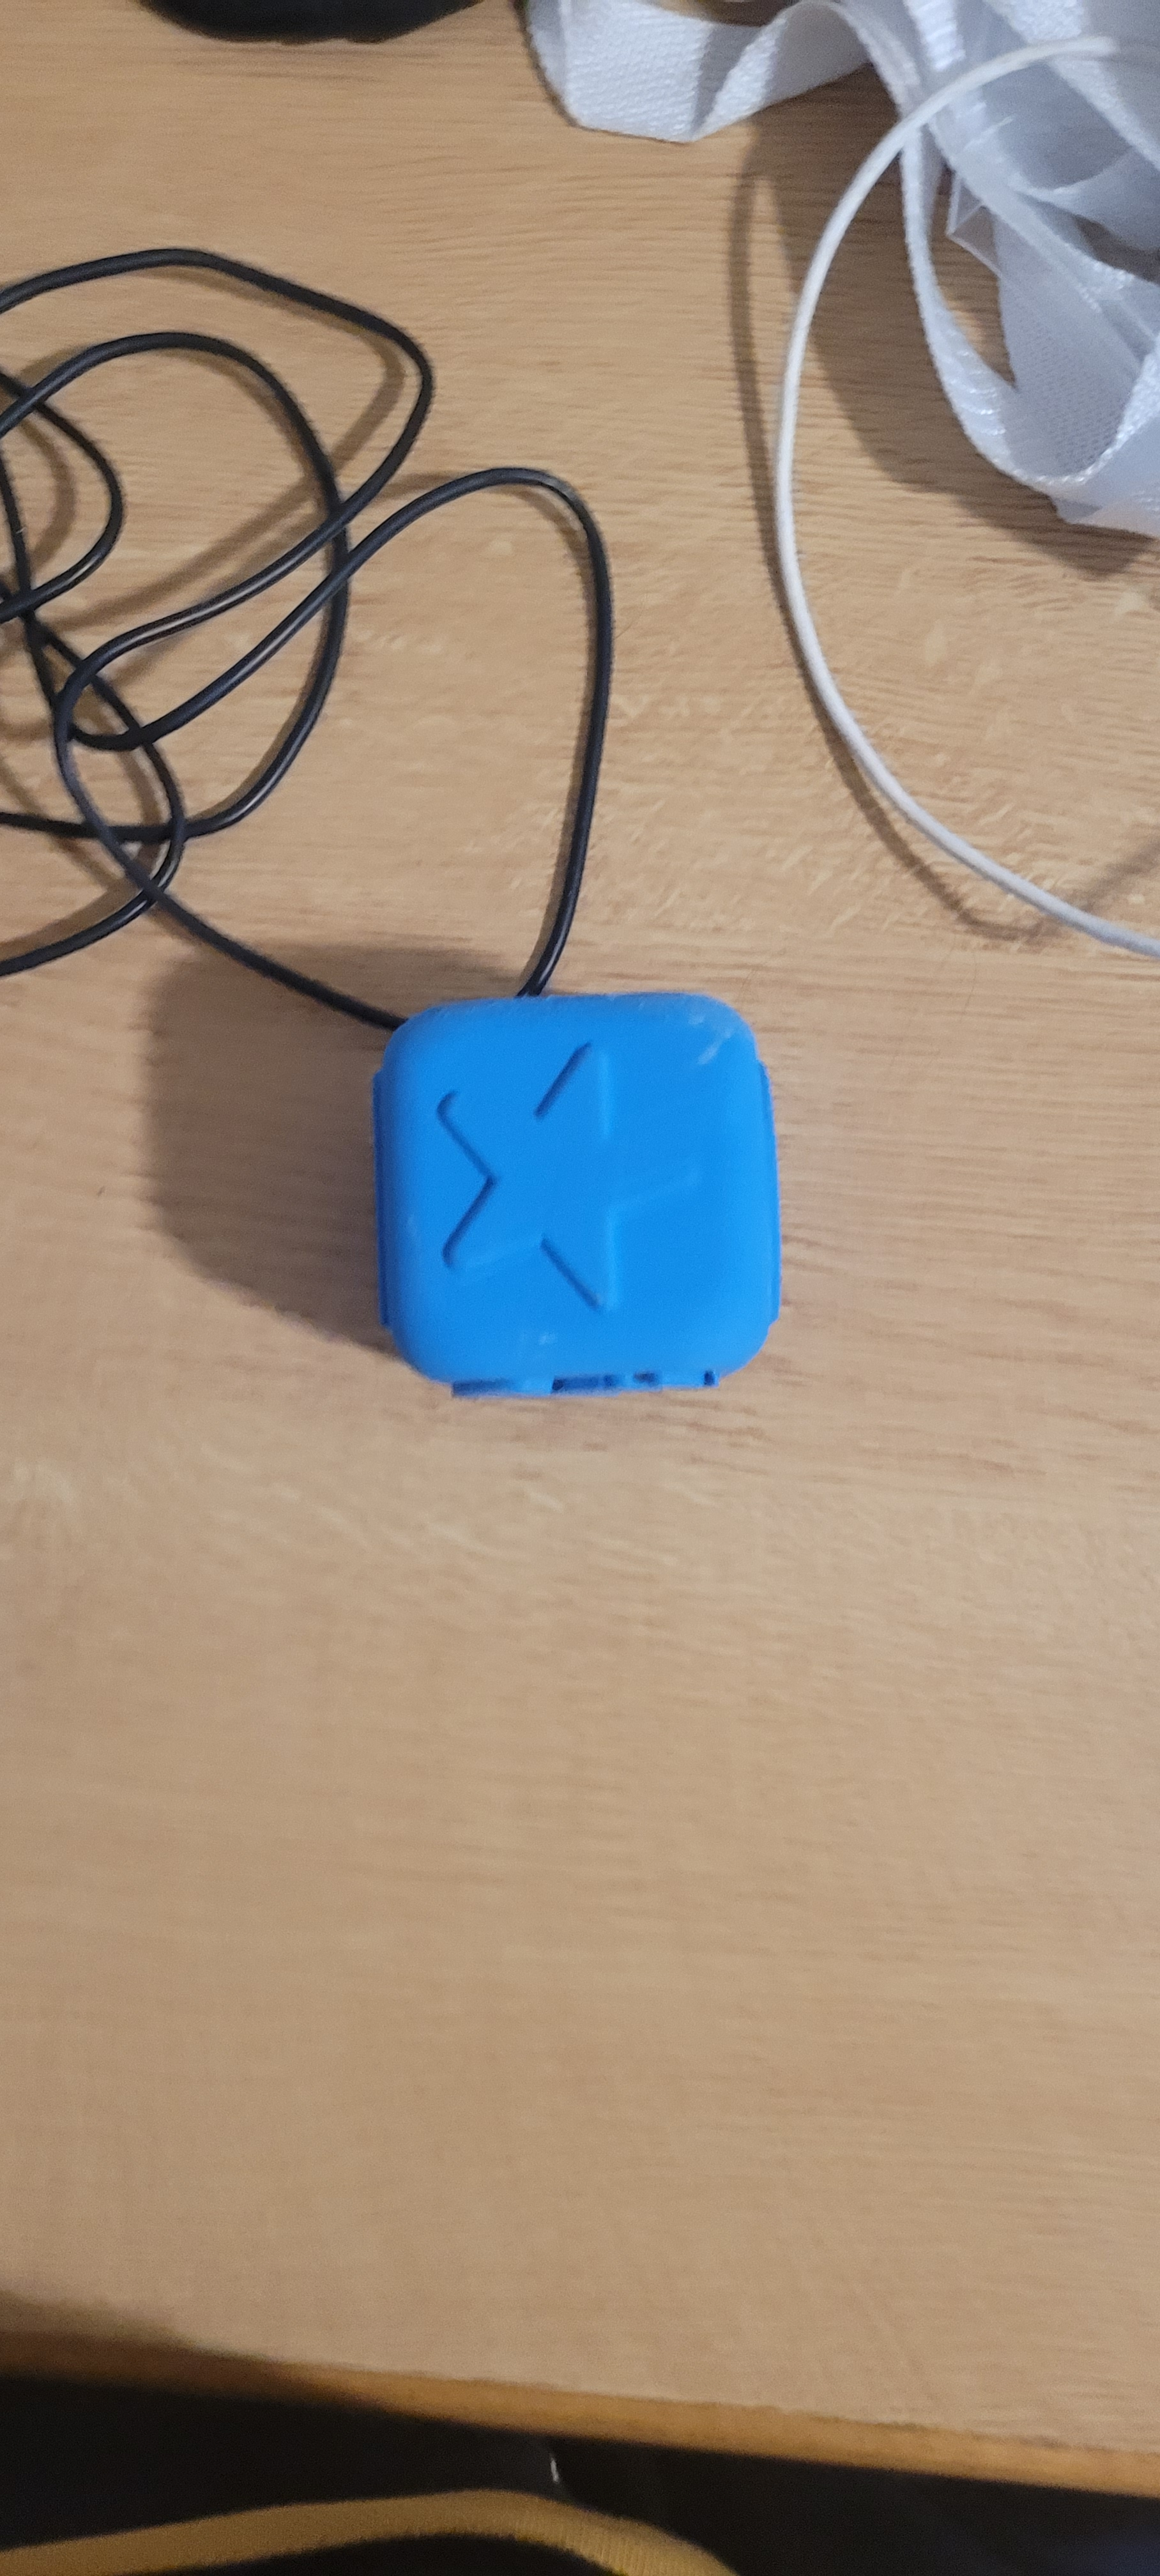Star: (370, 1014, 741, 1347)
